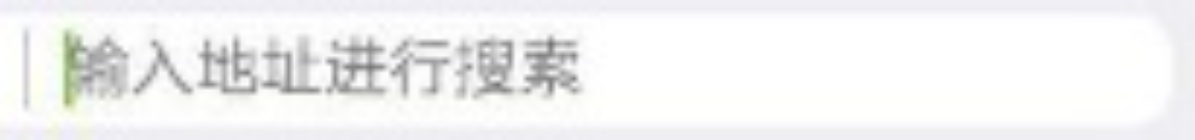EditText: (1, 1, 1194, 139)
